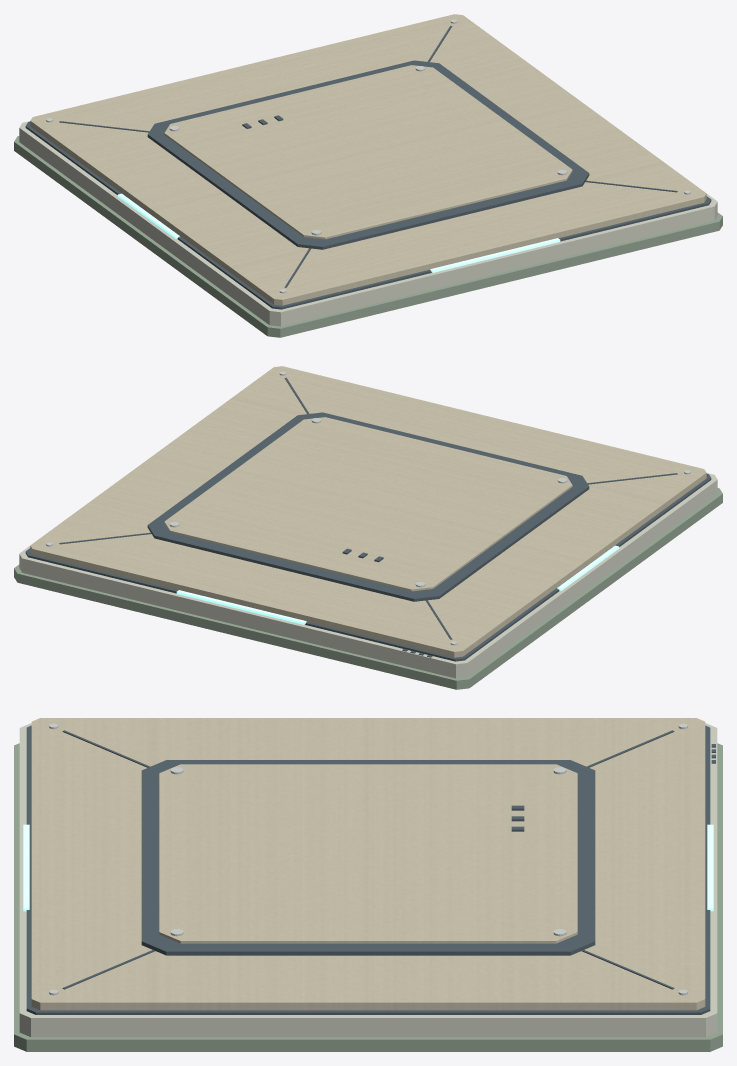
File: m01-metal-service-hatch.glb
3 renders of one model, top to bottom at view 1: azimuth 30°, elevation 25°; view 2: azimuth 150°, elevation 25°; view 3: azimuth 270°, elevation 25°, orthographic. The views are drawn at different scales.
Parts seen in each view (by area): view 1: service-hatch/003, service-hatch/021, service-hatch/001, service-hatch/000, service-hatch/020, service-hatch/002, service-hatch/014; view 2: service-hatch/003, service-hatch/021, service-hatch/001, service-hatch/000, service-hatch/020, service-hatch/002, service-hatch/013; view 3: service-hatch/003, service-hatch/021, service-hatch/001, service-hatch/020, service-hatch/000, service-hatch/002, service-hatch/013, service-hatch/014.
Part boxes in pixels (x1,y1,x2,y2): service-hatch/003: (30,14,706,305); service-hatch/021: (164,65,572,239); service-hatch/001: (19,121,717,326); service-hatch/000: (14,136,722,337); service-hatch/020: (147,60,589,249); service-hatch/002: (25,121,711,309); service-hatch/014: (430,238,560,272); service-hatch/003: (30,366,706,657); service-hatch/021: (164,417,572,591); service-hatch/001: (19,473,717,678); service-hatch/000: (14,488,722,689); service-hatch/020: (147,412,589,601); service-hatch/002: (25,473,711,661); service-hatch/013: (176,590,306,624); service-hatch/003: (31,718,705,1010); service-hatch/021: (159,764,577,943); service-hatch/001: (19,723,717,1037); service-hatch/020: (141,760,595,955); service-hatch/000: (14,743,722,1051); service-hatch/002: (26,725,710,1014); service-hatch/013: (707,824,713,911); service-hatch/014: (23,824,29,911).
Bounding box in the file's own units: 1 × 0.08 × 1.
Materials: 6 (1 with a texture image).
